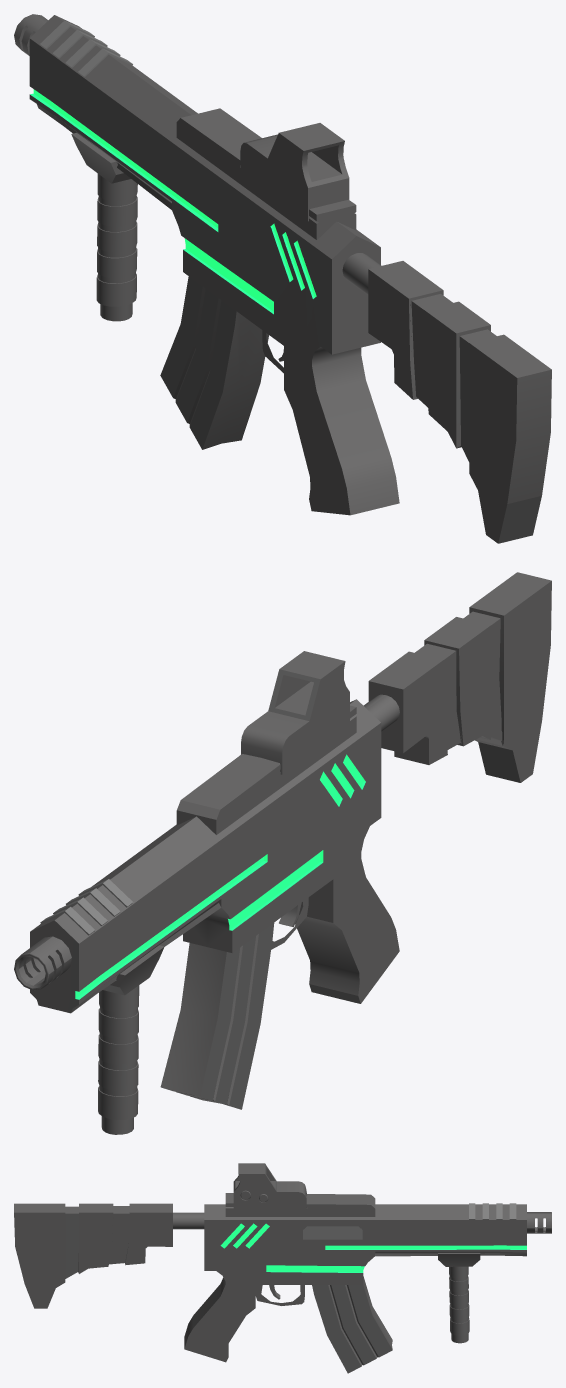
Rendered from Rifle.fbx.
3 renders of one model, top to bottom at view 1: azimuth 30°, elevation 25°; view 2: azimuth 150°, elevation 25°; view 3: azimuth 270°, elevation 25°, orthographic. The views are drawn at different scales.
Visible parts, largest first — view 1: Base, Magazine, Cube.003, Cube.002, Base.004, Muzzle; view 2: Base, Magazine, Cube.003, Cube.002, Muzzle, Base.004; view 3: Base, Magazine, Cube.003, Cube.002, Opener, Muzzle, Base.004.
Boxes of the visible parts, x1,y1,x2,y2 form: Base: (29, 15, 551, 543); Magazine: (160, 276, 268, 449); Cube.003: (240, 123, 349, 221); Cube.002: (71, 132, 137, 321); Base.004: (40, 20, 132, 76); Muzzle: (14, 14, 48, 55); Base: (30, 572, 551, 1013); Magazine: (160, 923, 274, 1109); Cube.003: (241, 651, 349, 774); Cube.002: (98, 945, 164, 1134); Muzzle: (14, 936, 71, 990); Base.004: (40, 879, 133, 935); Base: (14, 1193, 526, 1362); Magazine: (312, 1276, 392, 1373); Cube.003: (233, 1163, 307, 1209); Cube.002: (438, 1253, 480, 1343); Opener: (303, 1226, 362, 1239); Muzzle: (527, 1212, 551, 1233); Base.004: (469, 1203, 516, 1219).
Bounding box in the file's own units: 52.42 × 356 × 867.
